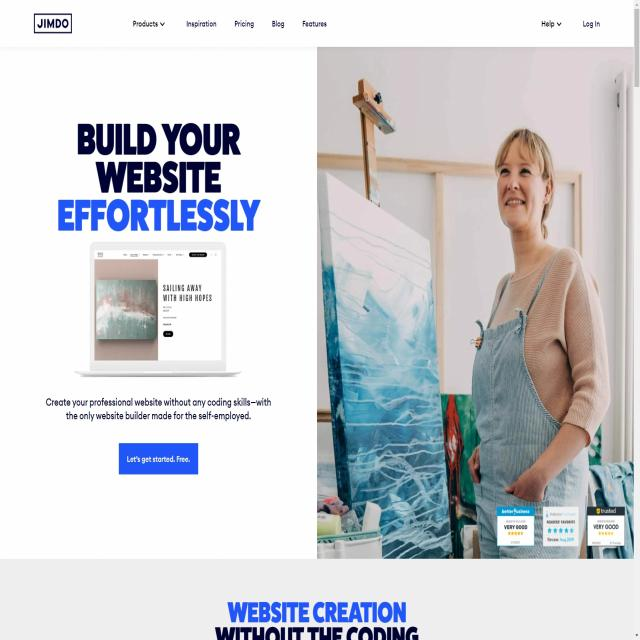menu-bar: (124, 8, 607, 37)
